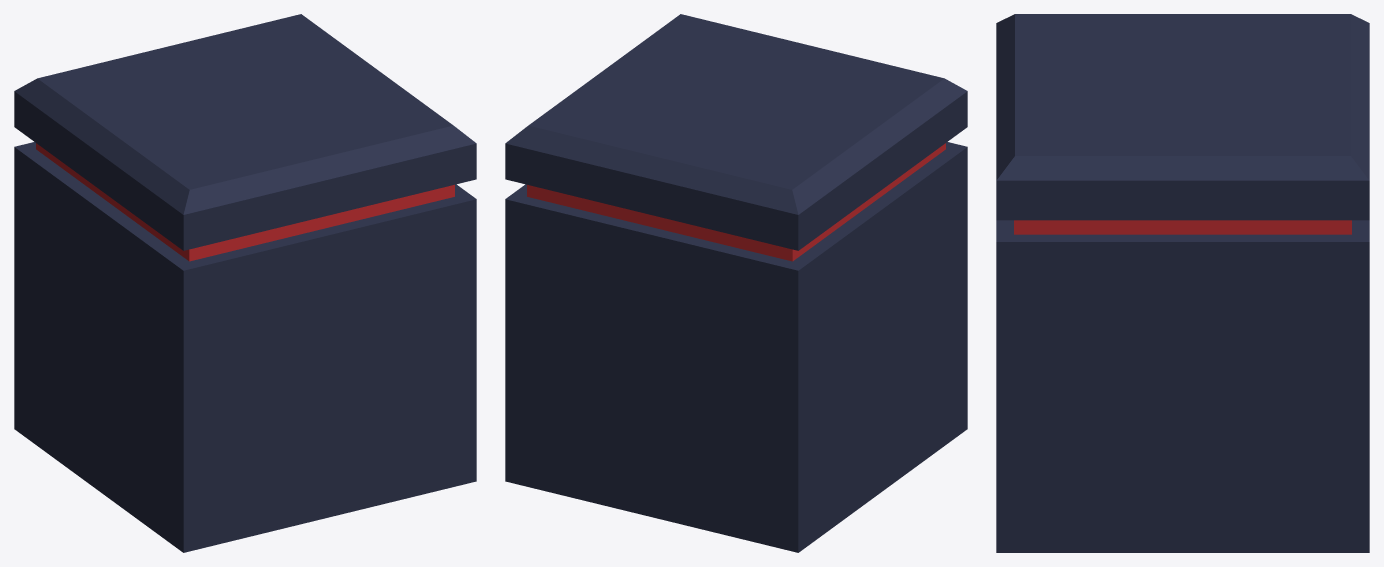
File: Railing_Post.fbx
3 views of the same model, side by side, from view 1: azimuth 30°, elevation 25°; view 2: azimuth 150°, elevation 25°; view 3: azimuth 270°, elevation 25° (orthographic). The views are drawn at different scales.
Visible parts, largest first — view 1: Railing_Post; view 2: Railing_Post; view 3: Railing_Post.
Boxes of the visible parts, box(x1,y1,x2,y2) form: Railing_Post: box(14, 14, 476, 552); Railing_Post: box(505, 14, 967, 552); Railing_Post: box(996, 14, 1369, 552).
Bounding box in the file's own units: 172 × 198 × 172.
